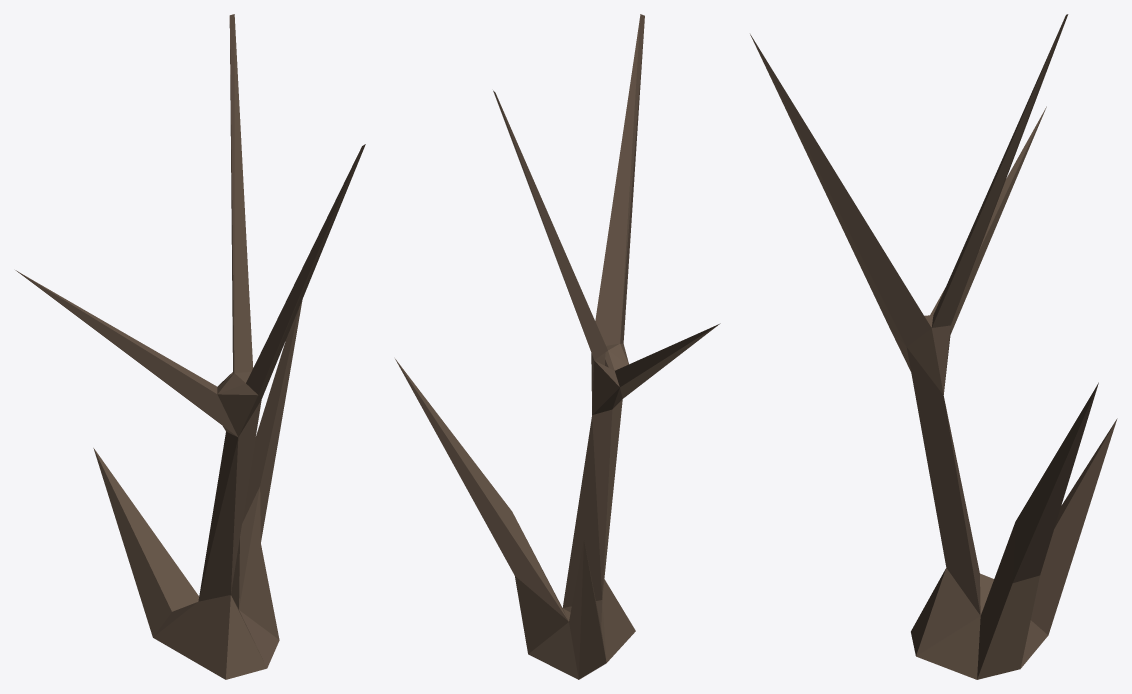
Rendered from shrub5.glb.
3 renders of one model, left to right at view 1: azimuth 30°, elevation 25°; view 2: azimuth 150°, elevation 25°; view 3: azimuth 270°, elevation 25°, orthographic. The views are drawn at different scales.
Visible parts, largest first — view 1: shrub_5; view 2: shrub_5; view 3: shrub_5.
Part boxes in pixels (<box>): shrub_5: <box>15,14,365,679</box>; shrub_5: <box>395,14,720,679</box>; shrub_5: <box>750,14,1117,679</box>.
Size of the model in its own units: 0.4511 by 0.8165 by 0.4099.
